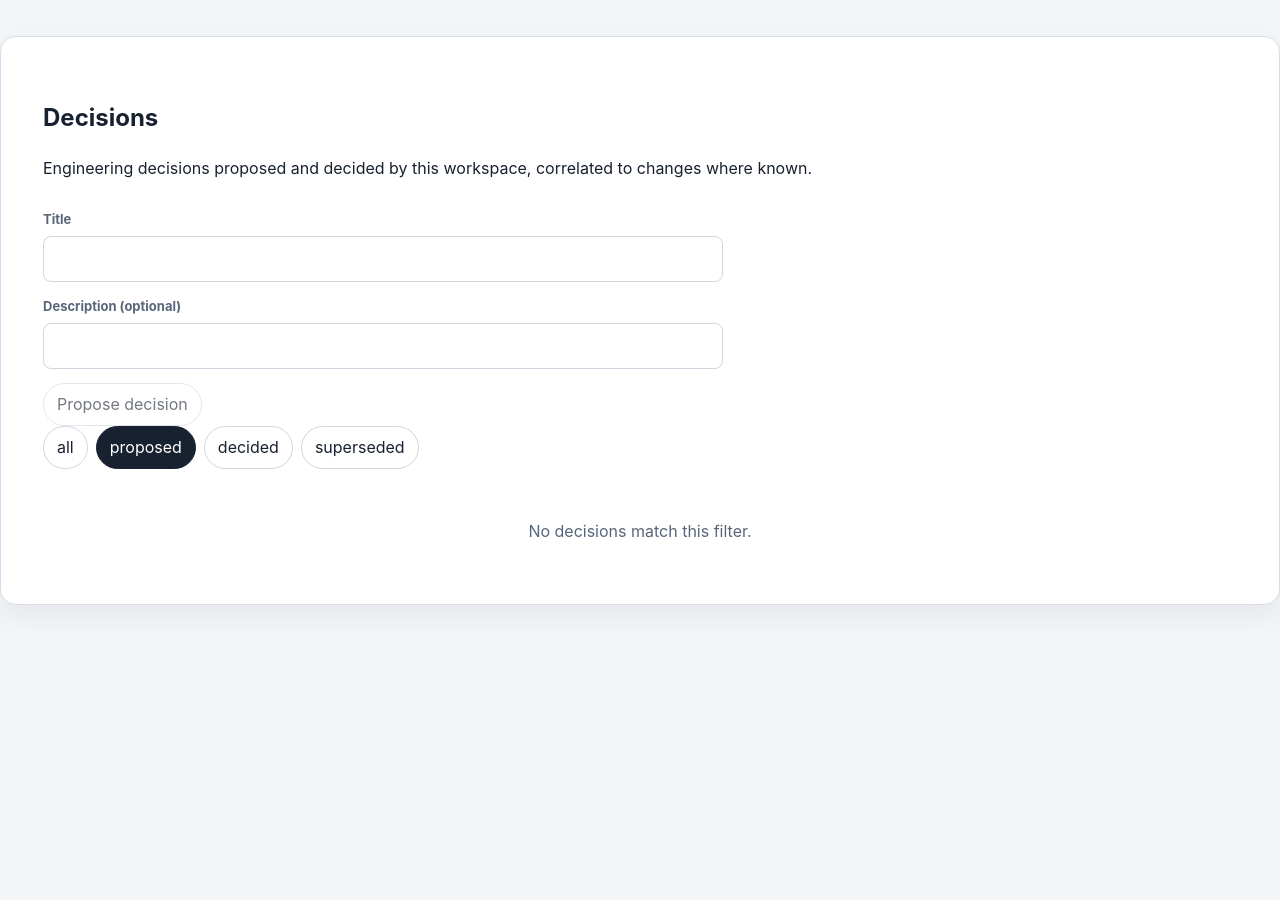
it: DecisionsPanel › maps a stale CSRF token to a reload instruction, never the generic "not permitted" 403 fallback
Expected: the text "No decisions match this filter." is shown, [528,521,752,541]
Type "Adopt trunk-based development" into the field named "Decision title" at [383, 259], box [43,236,723,282]
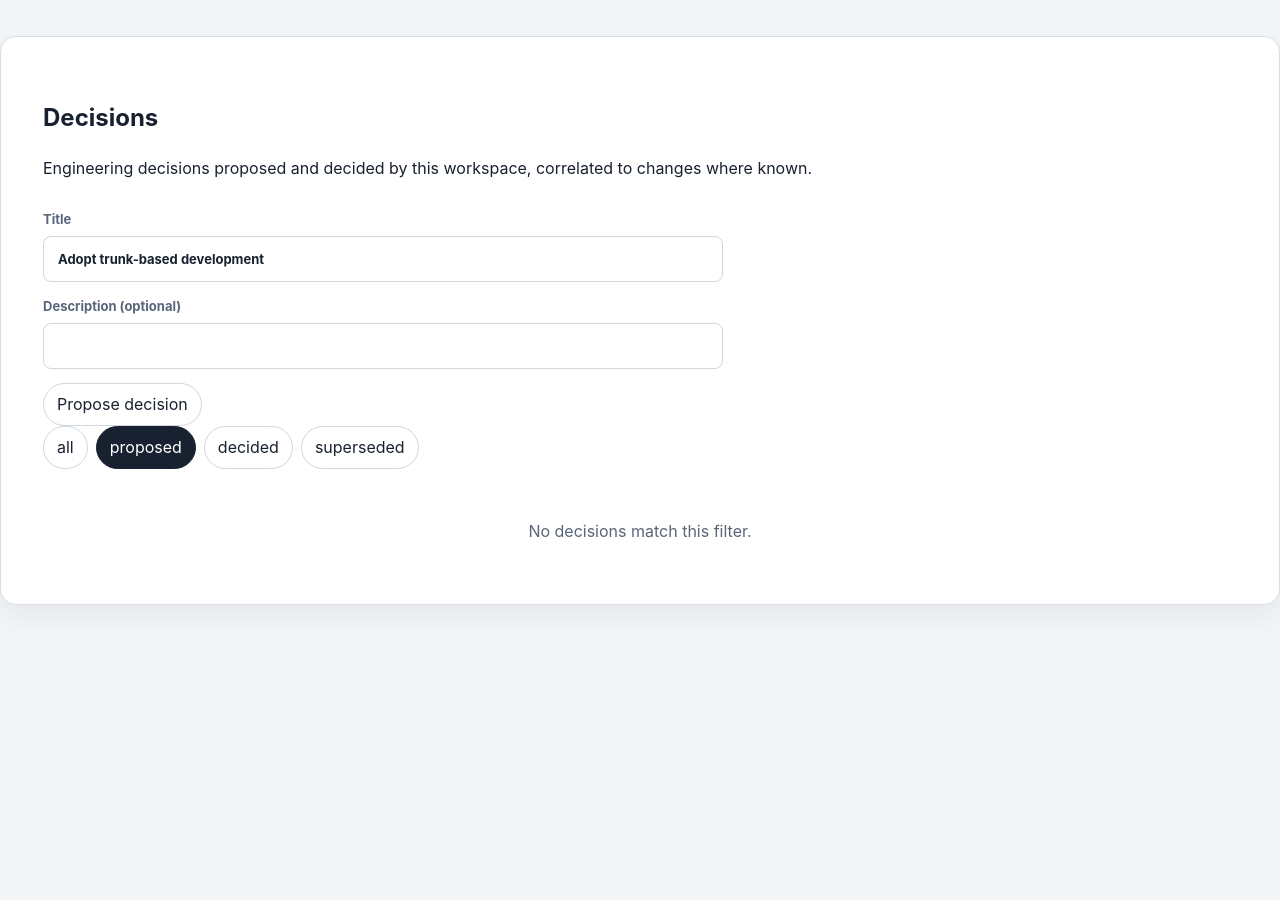
Click the button "Propose decision" at [122, 405], box [43,383,202,426]
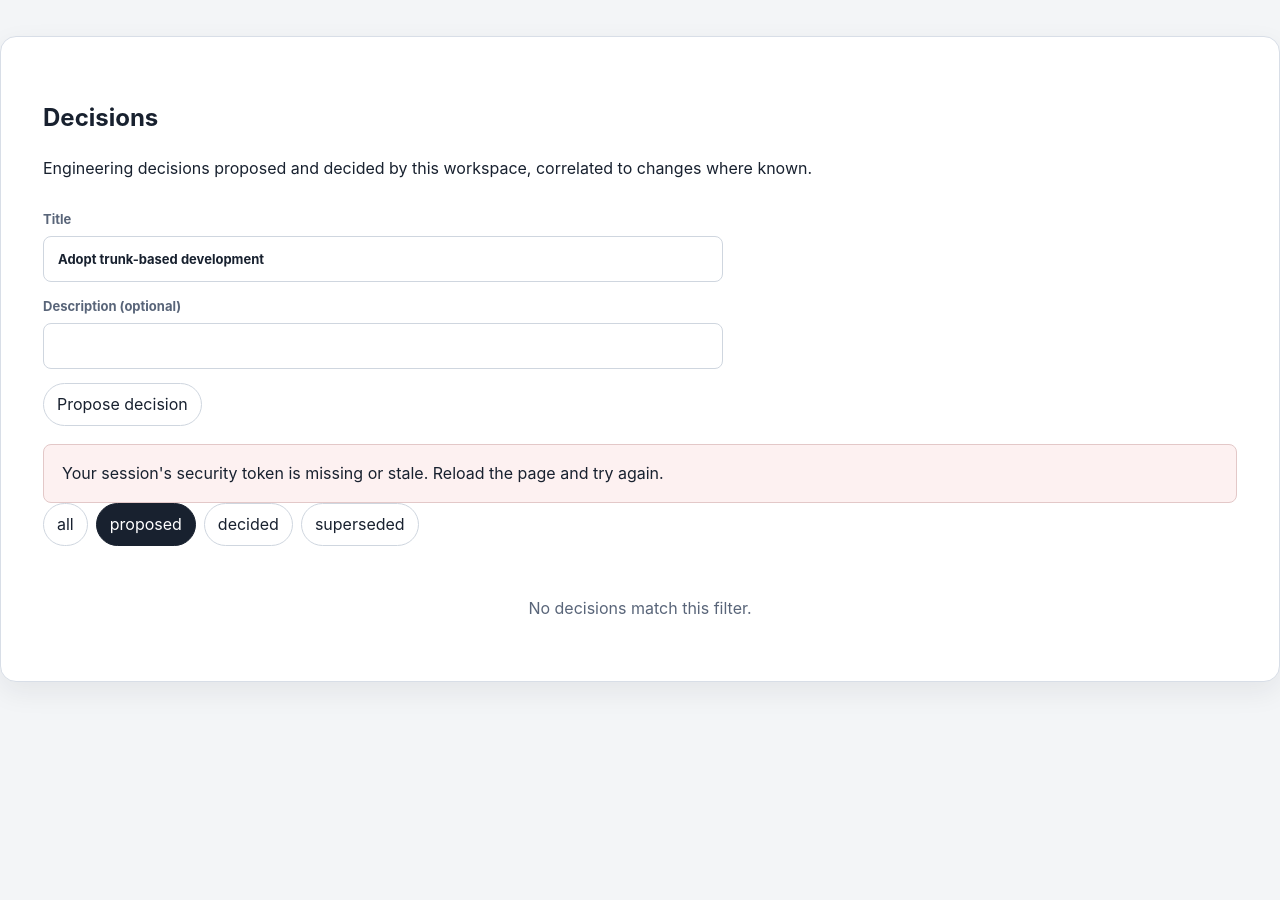
Expected: the text "security token is missing or stale" is shown, [62,463,664,483]
